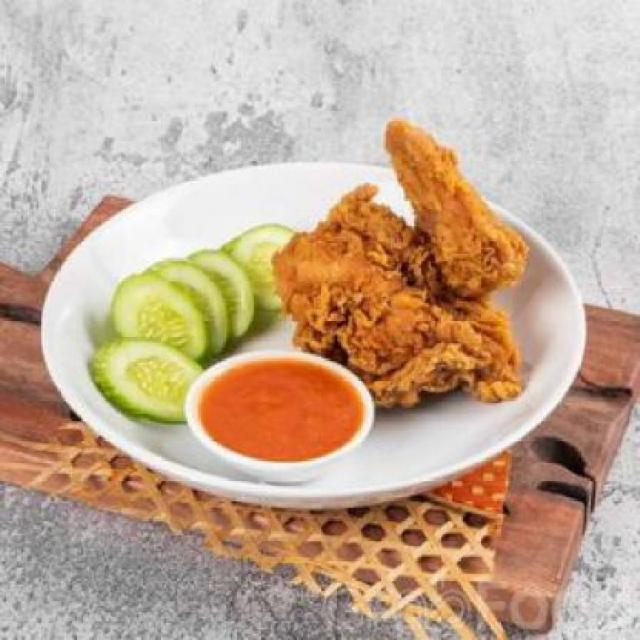Chicken -Fried Chicken-: (271, 120, 528, 410)
